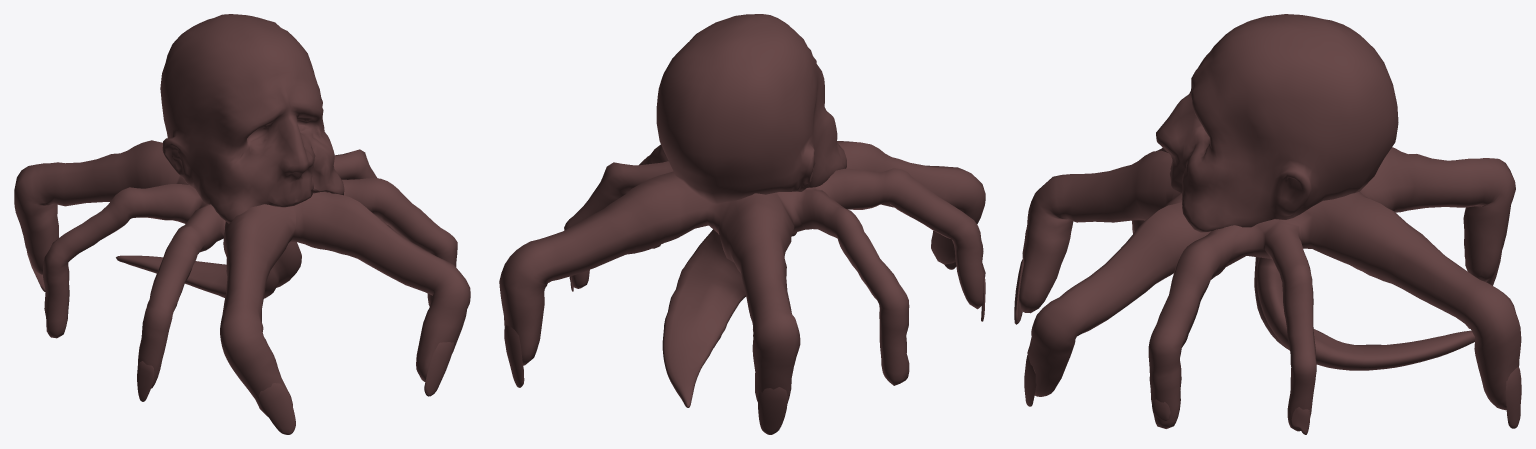
File: Char_FingeryFrank_lp_01.fbx
The picture shows the model from 3 angles, left to right: view 1: azimuth 30°, elevation 25°; view 2: azimuth 150°, elevation 25°; view 3: azimuth 270°, elevation 25°; orthographic projection. The views are drawn at different scales.
Parts seen in each view (by area): view 1: Fingers_low, Head_low, Nails_low, Tongue_low; view 2: Fingers_low, Head_low, Tongue_low, Nails_low; view 3: Fingers_low, Head_low, Tongue_low, Nails_low.
Boxes of the visible parts, <box> form: Fingers_low: <box>14,140,470,416</box>; Head_low: <box>160,14,344,223</box>; Nails_low: <box>26,250,453,434</box>; Tongue_low: <box>116,242,301,298</box>; Fingers_low: <box>499,141,985,403</box>; Head_low: <box>656,14,846,203</box>; Tongue_low: <box>662,229,745,407</box>; Nails_low: <box>504,232,985,434</box>; Fingers_low: <box>1019,147,1521,431</box>; Head_low: <box>1156,14,1398,232</box>; Tongue_low: <box>1254,257,1474,370</box>; Nails_low: <box>1014,227,1521,434</box>.
Size of the model in its own units: 42.63 by 36.37 by 48.7.
